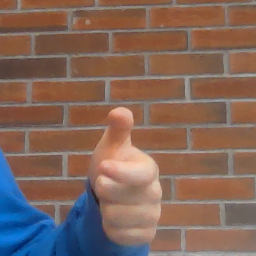G: (88, 104, 166, 245)
